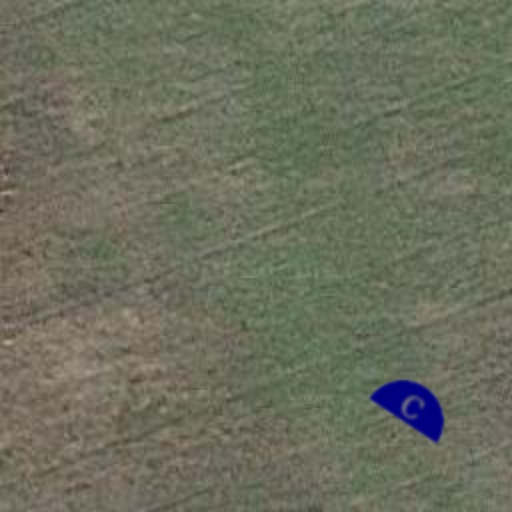semicircle: (356, 346, 472, 462)
